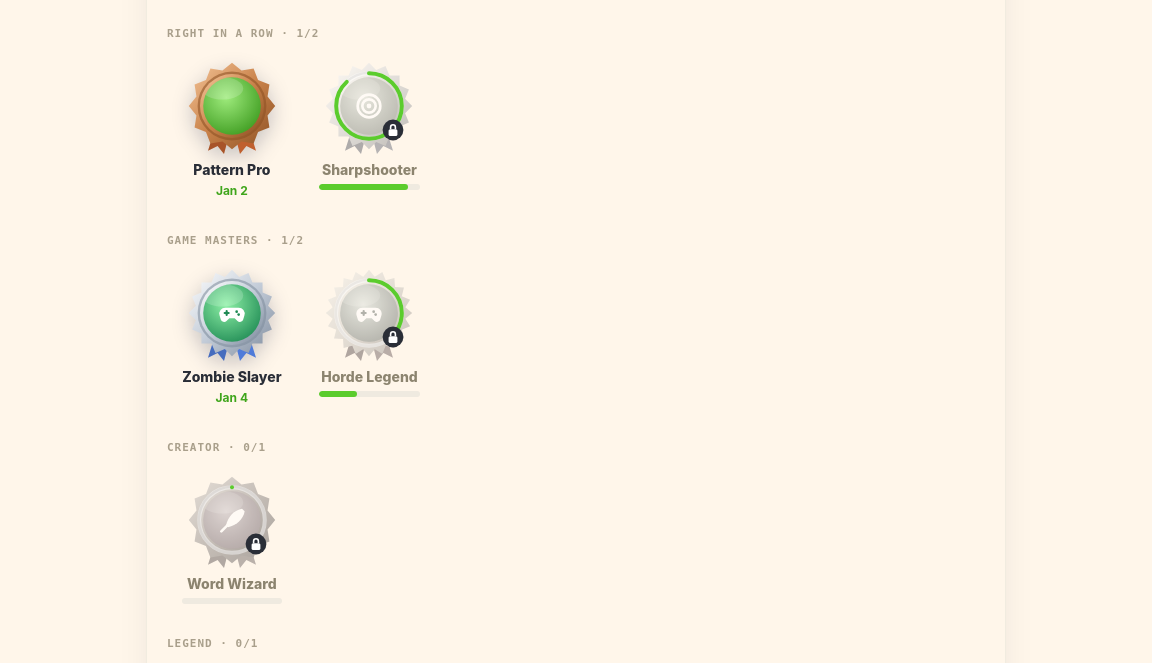
Test: BadgesView › shows painting in progress, and closes on Escape
(page scrolled)
Click the button with aria-label "Zombie Slayer: earned" at [232, 337], box [167,259,297,414]
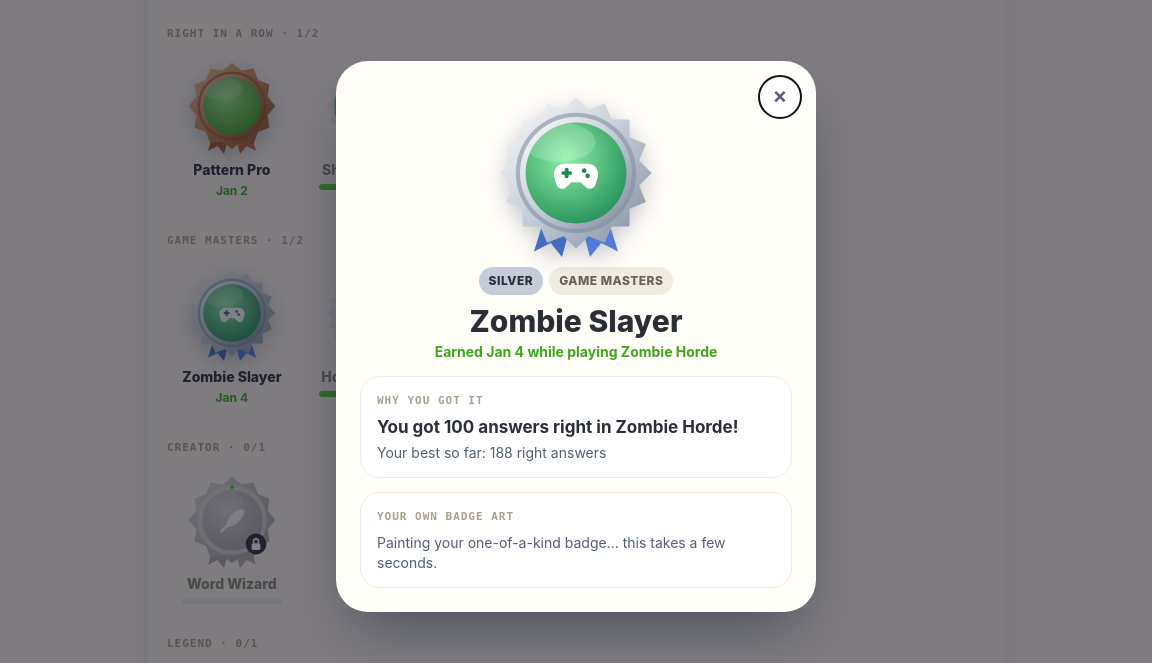
Expected: the message shows "Painting your one-of-a-kind badge", [377,534,726,570]
Press Escape in the dialog, box [336,60,816,612]
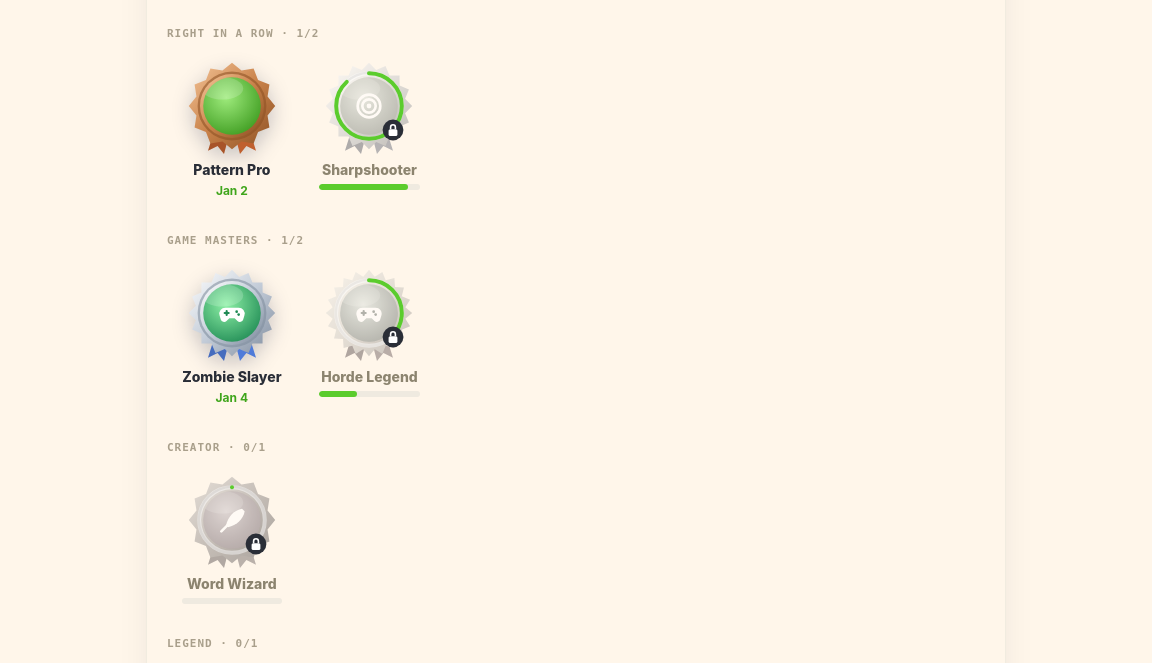
Expected: the dialog is gone
